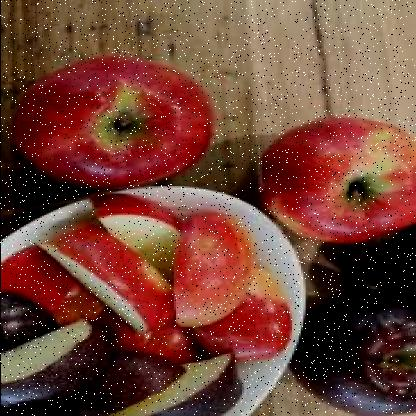apple: (28, 58, 202, 184), (273, 120, 411, 244), (298, 292, 414, 408)
